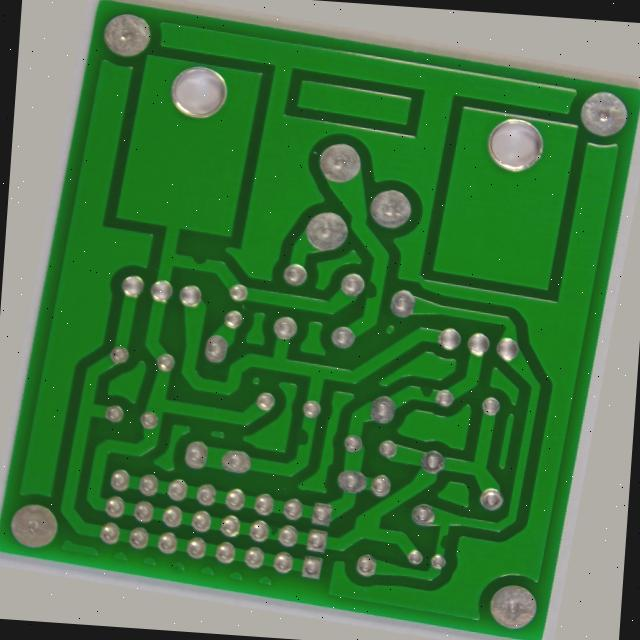mouse_bite: (362, 267, 390, 294), (306, 433, 328, 461), (432, 377, 458, 400), (168, 258, 191, 281), (475, 534, 493, 558), (286, 543, 304, 564)
